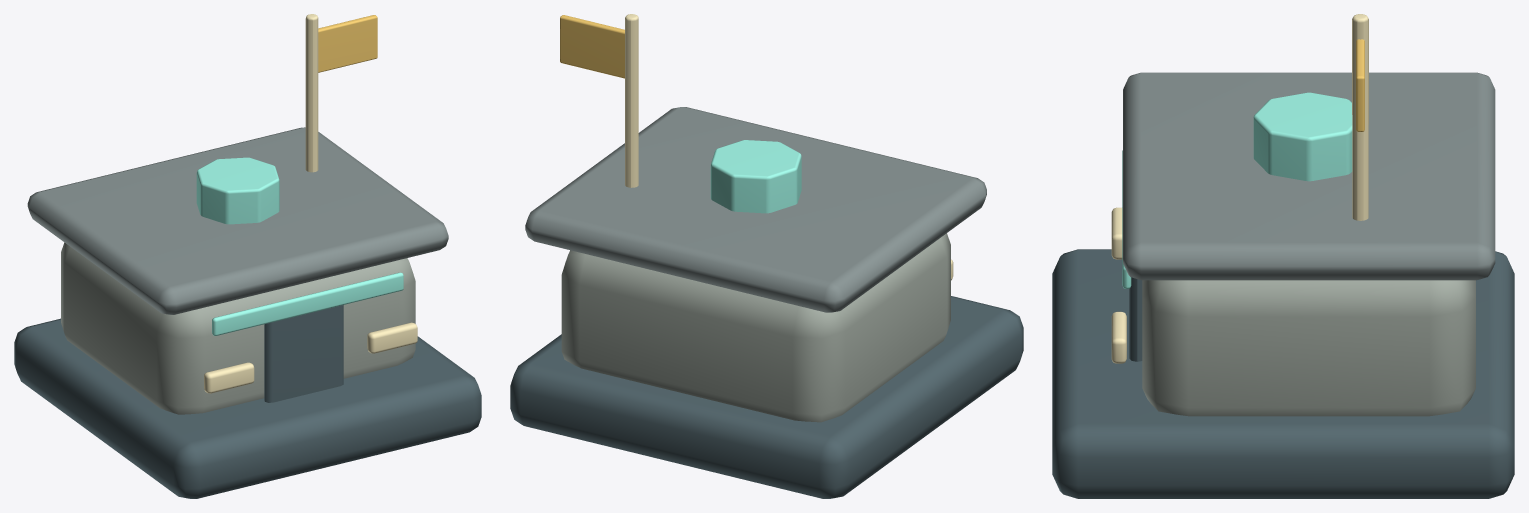
The model's file is Headquarters.fbx.
3 views of the same model, side by side, from view 1: azimuth 30°, elevation 25°; view 2: azimuth 150°, elevation 25°; view 3: azimuth 270°, elevation 25° (orthographic). The views are drawn at different scales.
Parts seen in each view (by area): view 1: Roof, Foundation, Bunker, Door, Signal core, Signal stripe, Flag, Mast, Wing emblem, Wing emblem.001; view 2: Roof, Bunker, Foundation, Signal core, Flag, Mast; view 3: Roof, Foundation, Bunker, Signal core, Mast, Door, Flag, Wing emblem.001, Wing emblem.
Boxes of the visible parts, <box> form: Roof: <box>27,127,448,314</box>; Foundation: <box>14,318,481,498</box>; Bunker: <box>61,242,415,414</box>; Door: <box>264,305,343,402</box>; Signal core: <box>196,157,279,224</box>; Signal stripe: <box>212,272,403,335</box>; Flag: <box>318,15,377,72</box>; Mast: <box>305,14,318,172</box>; Wing emblem: <box>204,362,254,393</box>; Wing emblem.001: <box>367,322,417,353</box>; Roof: <box>525,107,986,312</box>; Bunker: <box>561,233,950,422</box>; Foundation: <box>510,296,1023,498</box>; Signal core: <box>710,140,801,213</box>; Flag: <box>560,15,624,78</box>; Mast: <box>625,14,638,187</box>; Roof: <box>1123,72,1495,280</box>; Foundation: <box>1052,249,1514,498</box>; Bunker: <box>1142,280,1475,416</box>; Signal core: <box>1253,92,1352,181</box>; Mast: <box>1352,14,1368,220</box>; Door: <box>1129,277,1142,361</box>; Flag: <box>1356,39,1364,131</box>; Wing emblem.001: <box>1111,311,1126,363</box>; Wing emblem: <box>1111,207,1122,259</box>.
Bounding box in the file's own units: 183 × 196 × 180.
